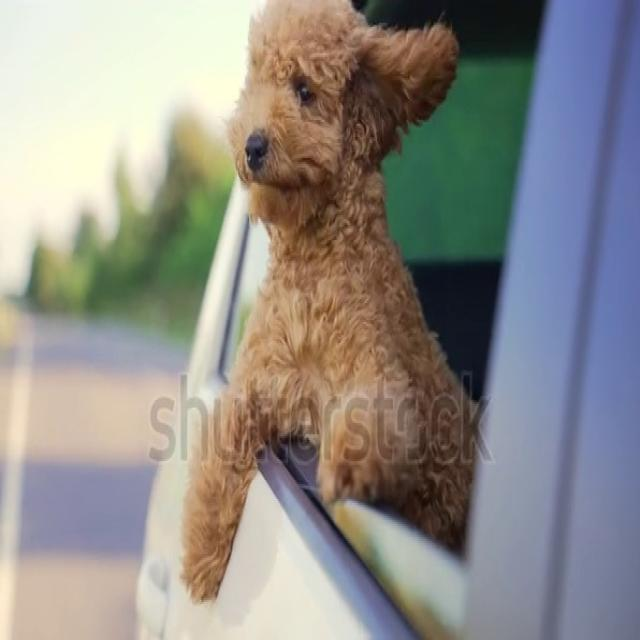normal_animals: (175, 2, 485, 606)
